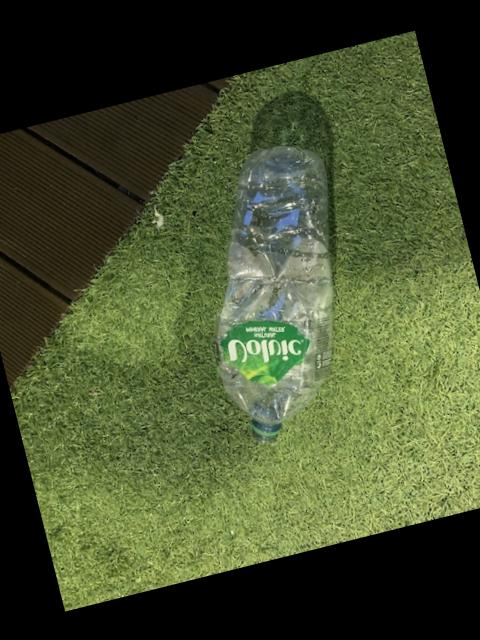plastic: (216, 144, 331, 439)
